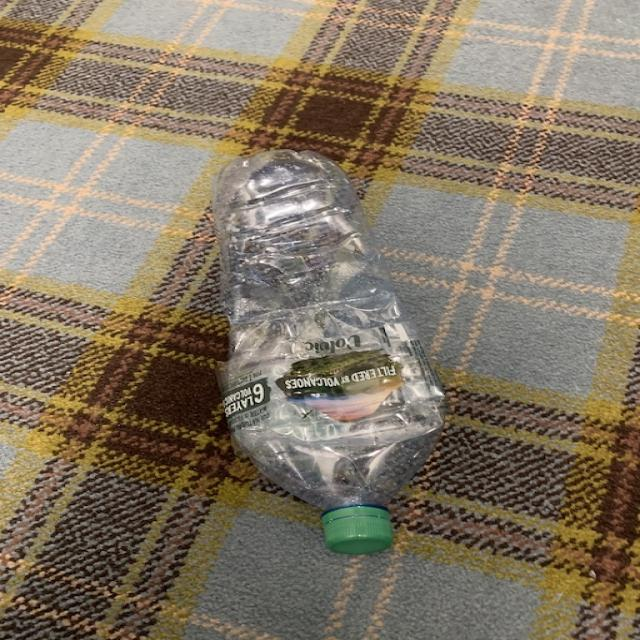Waste: (214, 150, 445, 554)
